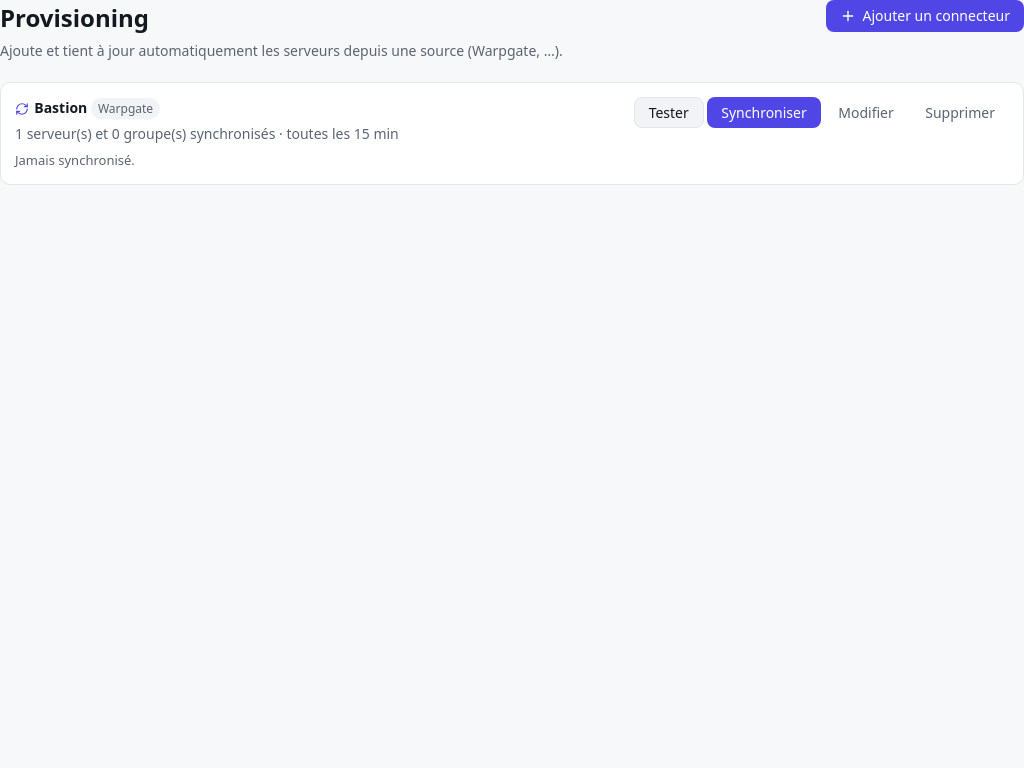
it: page Provisioning › liste le connecteur, ses compteurs, et un aperçu qui liste les changements
The width and height of the screenshot is (1024, 768).
expect the heading "Bastion Warpgate" is shown: met, box 15,98 -> 160,119
expect the text "1 serveur(s) et 0 groupe(s) synchronisés · toutes les 15 min" is shown: met, box 15,123 -> 399,144
Step 1. Click the button "Synchroniser" → x=764, y=112, box 707,96 -> 821,128
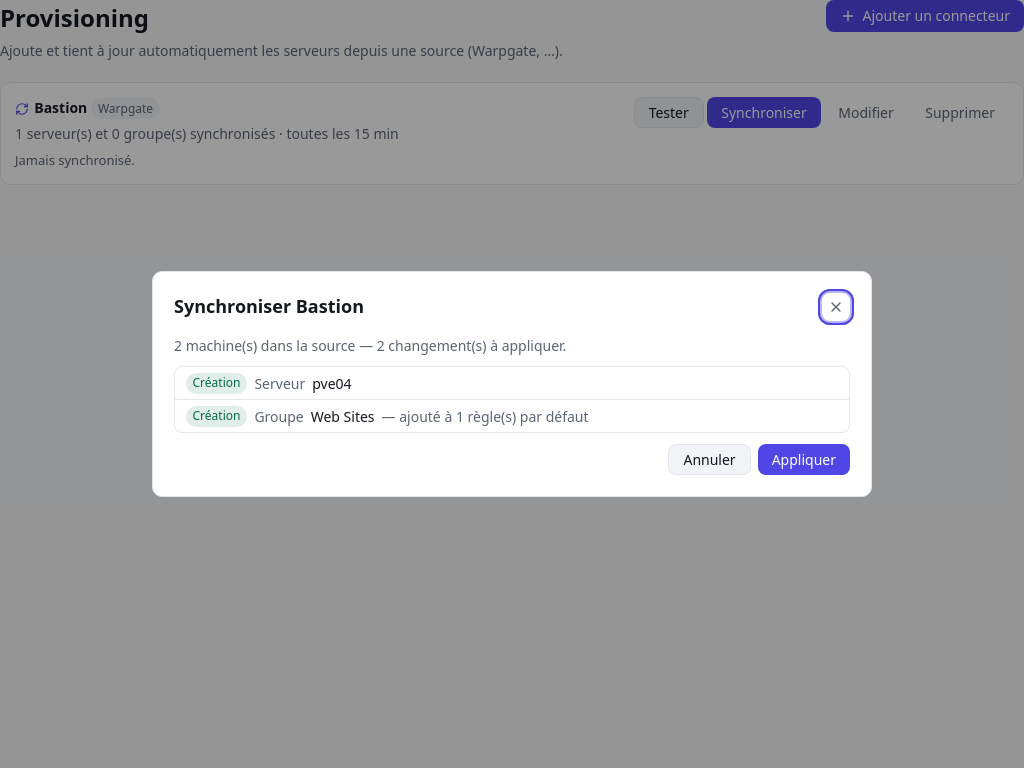
expect the text "pve04" is shown: met, box 312,373 -> 352,394
expect the text "— ajouté à 1 règle(s) par défaut" is shown: met, box 382,406 -> 589,427
expect the button "Appliquer" is enabled: met, box 758,444 -> 850,475
